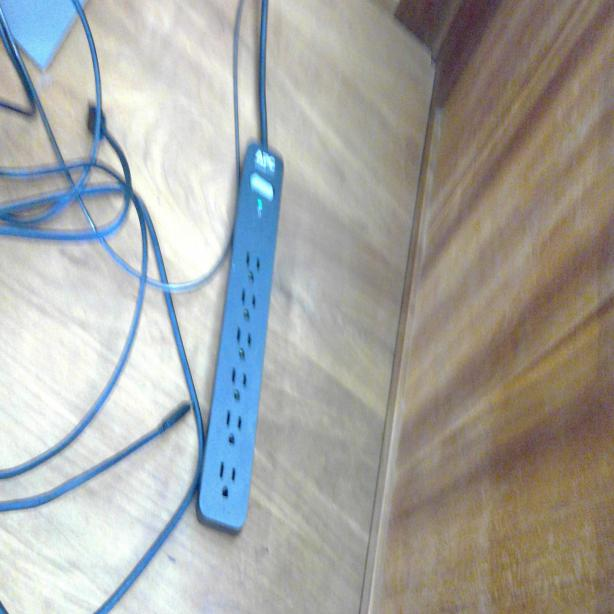typeb: (215, 456, 240, 504), (226, 361, 251, 404), (223, 406, 244, 449), (242, 244, 263, 287), (232, 323, 256, 360), (237, 282, 259, 322)
